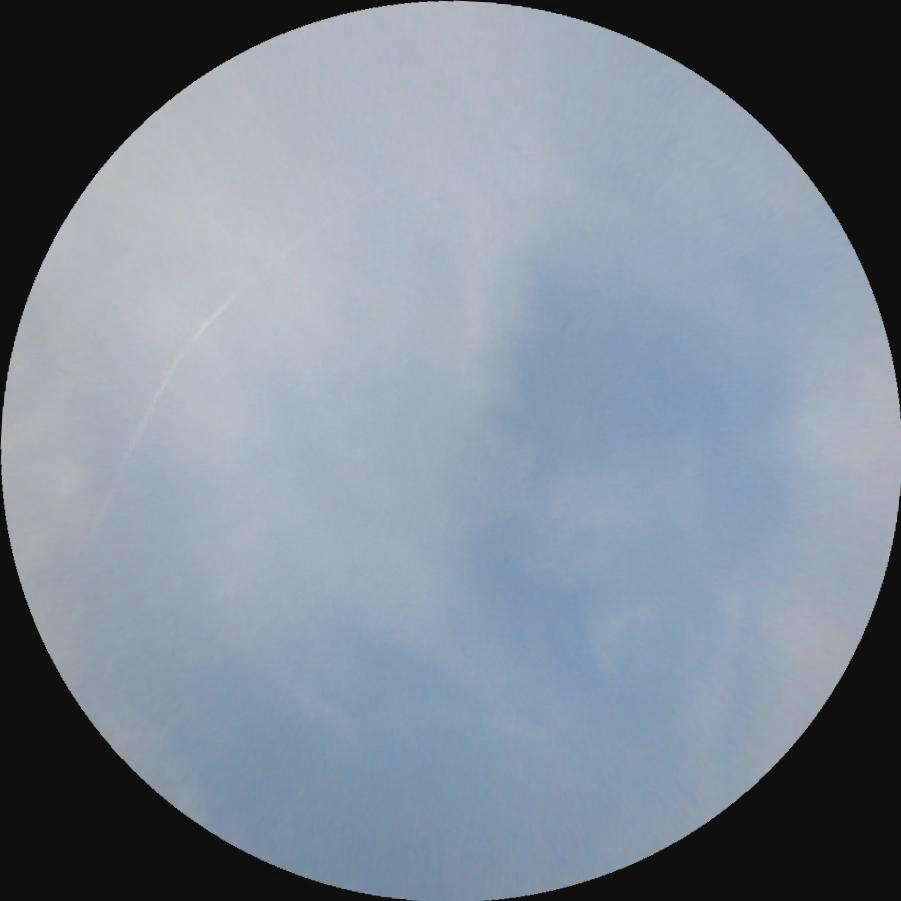contrail young: (50, 148, 392, 533)
